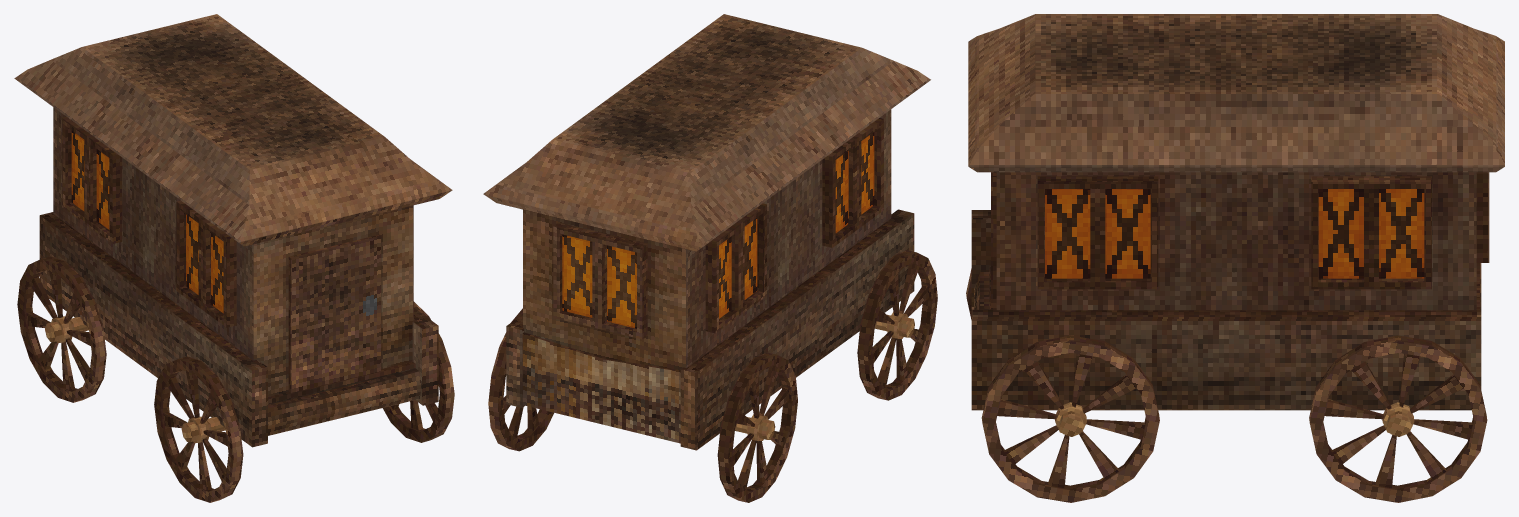
Rendered from Cart_2.gltf.
3 views of the same model, side by side, from view 1: azimuth 30°, elevation 25°; view 2: azimuth 150°, elevation 25°; view 3: azimuth 270°, elevation 25° (orthographic). The views are drawn at different scales.
Parts seen in each view (by area): view 1: Cart_2, Wheels_1.001, Wheels_1.002; view 2: Cart_2, Wheels_1.002, Wheels_1.001; view 3: Cart_2, Wheels_1.001, Wheels_1.002.
Boxes of the visible parts, x1,y1,x2,y2 form: Cart_2: [14, 14, 452, 447]; Wheels_1.001: [154, 301, 454, 502]; Wheels_1.002: [17, 256, 106, 402]; Cart_2: [483, 14, 930, 450]; Wheels_1.002: [488, 308, 797, 502]; Wheels_1.001: [857, 250, 937, 400]; Cart_2: [968, 14, 1504, 410]; Wheels_1.001: [966, 268, 1159, 502]; Wheels_1.002: [1309, 335, 1487, 502].
Bounding box in the file's own units: 6.36 × 8.07 × 10.21.
2 materials, 2 textured.
